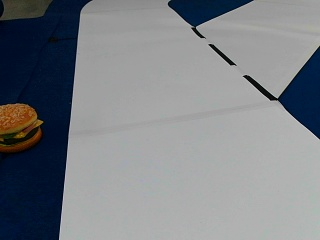burger: (0, 102, 42, 152)
